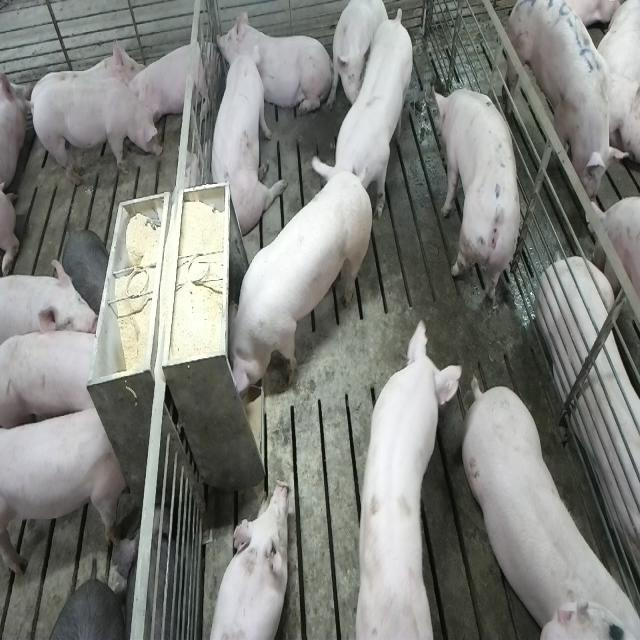Feeding: (218, 162, 368, 404)
Sitting: (207, 52, 278, 238), (331, 1, 388, 117)
Standing: (458, 376, 634, 636), (351, 310, 453, 636), (508, 0, 623, 204), (2, 396, 128, 575), (308, 12, 412, 222), (434, 84, 522, 314), (28, 80, 162, 189), (2, 328, 102, 434), (0, 255, 102, 358)
Sternal_lying: (538, 182, 640, 582), (208, 481, 290, 640), (218, 13, 330, 121), (131, 34, 213, 133)
